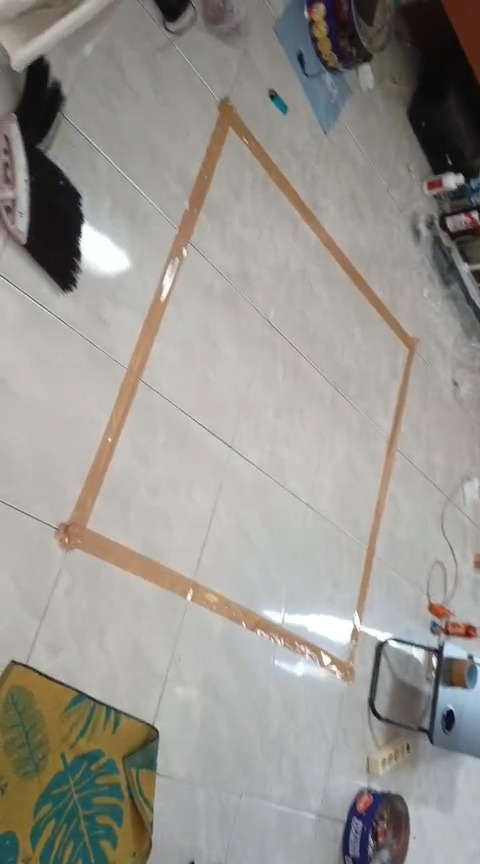floor marking: (57, 99, 417, 681)
